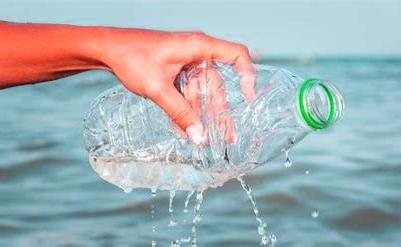Plastic: (80, 65, 344, 194)
